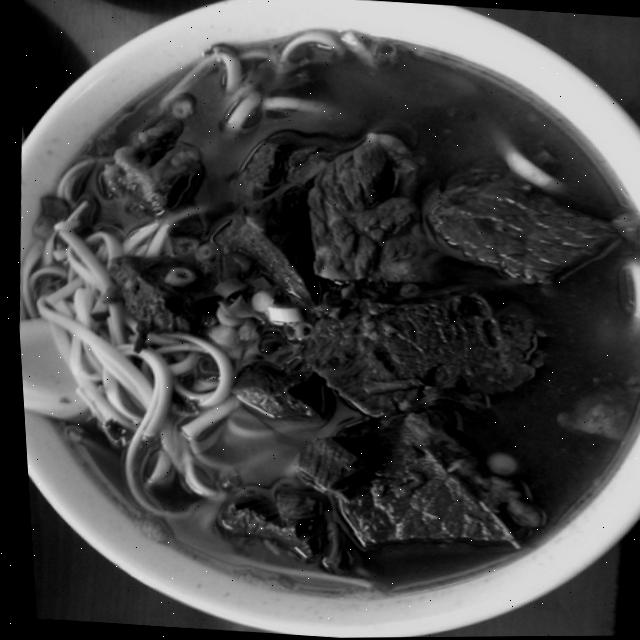面条主食: (1, 9, 640, 615)
